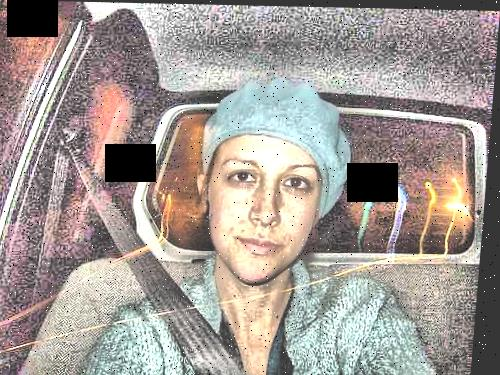seatbelt: (36, 122, 218, 348)
